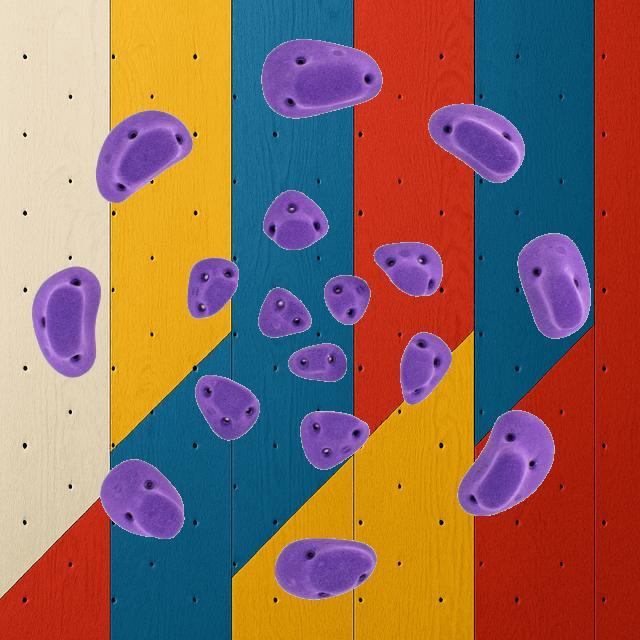Pinch: (456, 408, 554, 516), (260, 38, 382, 118), (95, 108, 193, 204), (516, 232, 592, 338), (30, 265, 101, 377), (428, 101, 524, 182), (100, 458, 186, 538), (274, 536, 376, 600), (194, 374, 260, 440), (299, 410, 369, 470), (398, 331, 452, 405), (262, 190, 328, 250), (373, 240, 442, 296), (187, 257, 239, 319), (258, 286, 310, 338), (324, 274, 371, 324), (288, 342, 346, 382)
